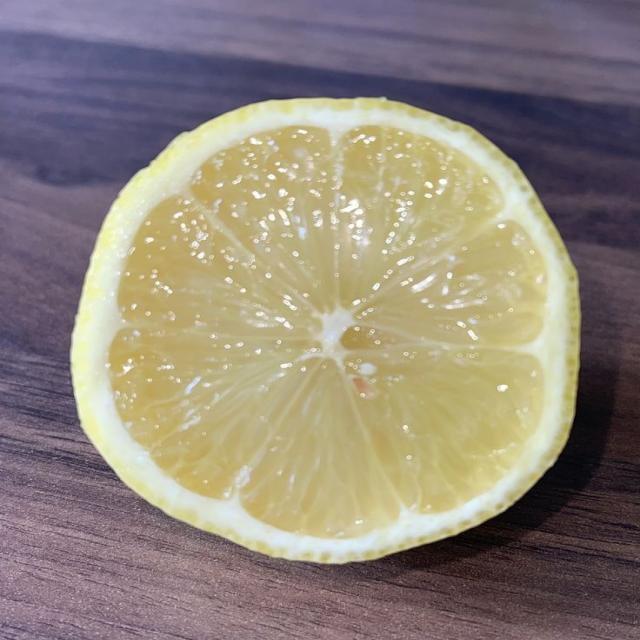lemon: (73, 100, 579, 562)
